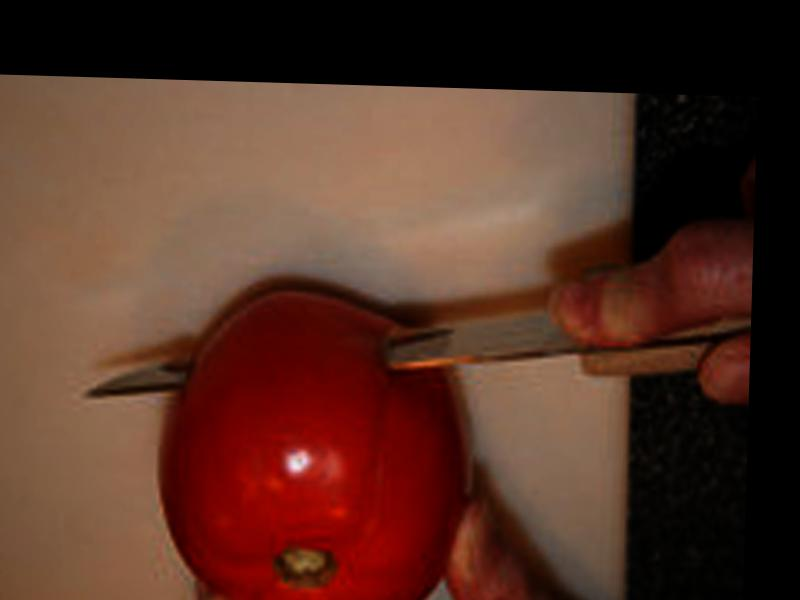Tomato: (152, 287, 469, 600)
